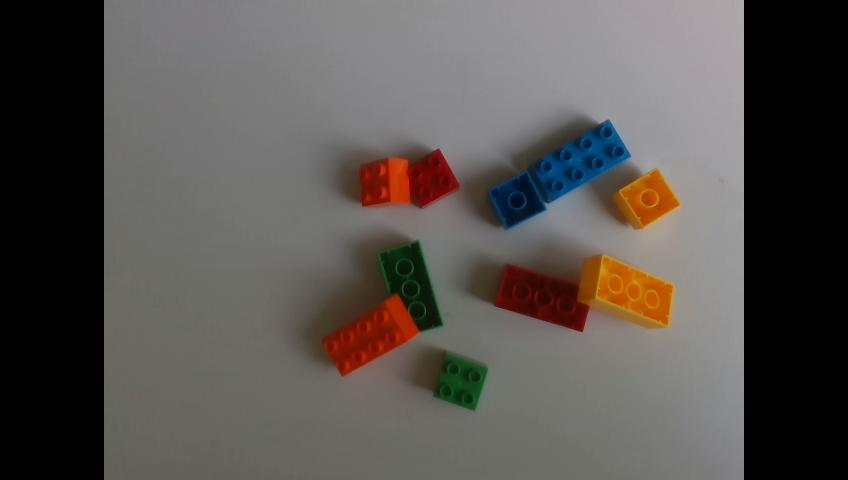2x2_blue: (487, 173, 547, 229)
2x2_green: (436, 353, 488, 410)
2x2_orange: (360, 157, 411, 211)
2x2_red: (411, 148, 462, 208)
2x2_yellow: (612, 167, 679, 229)
4x2_blue: (528, 120, 635, 204)
4x2_green: (377, 240, 443, 332)
4x2_orange: (324, 294, 419, 375)
4x2_red: (496, 263, 590, 332)
4x2_yellow: (577, 256, 674, 332)
